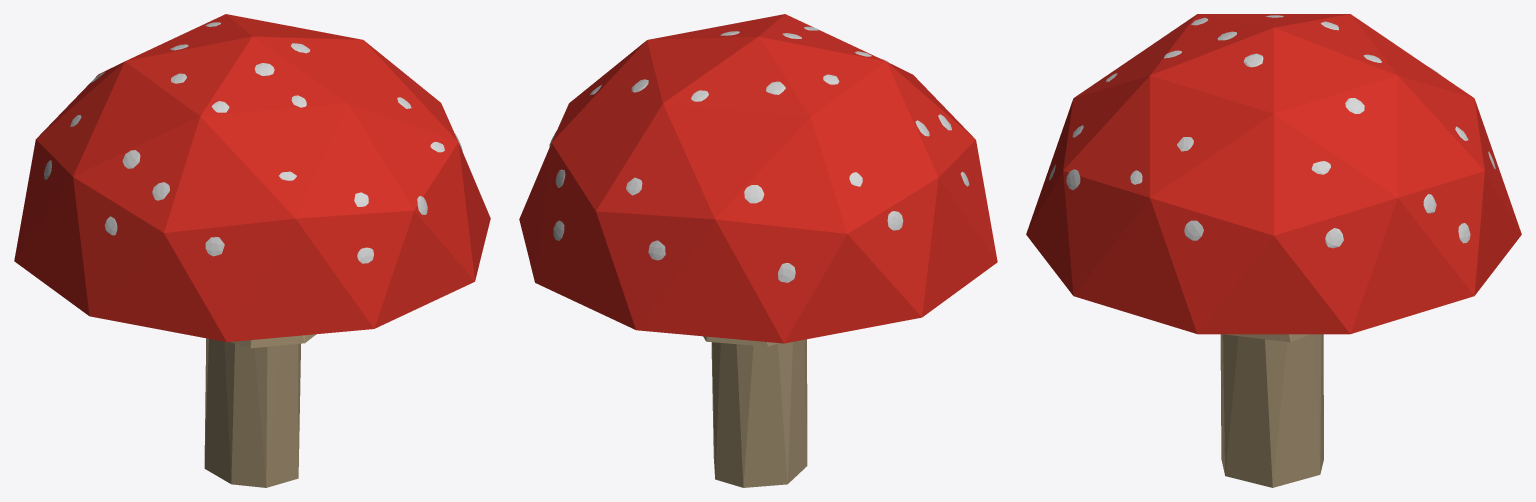
Rendered from vliegenzwam_2.fbx.
The picture shows the model from 3 angles, left to right: view 1: azimuth 30°, elevation 25°; view 2: azimuth 150°, elevation 25°; view 3: azimuth 270°, elevation 25°; orthographic projection.
Parts seen in each view (by area): view 1: Icosphere, Cylinder, Cylinder.001; view 2: Icosphere, Cylinder; view 3: Icosphere, Cylinder.
Boxes of the visible parts, bbox=[...] form: Icosphere: bbox=[14, 14, 490, 342]; Cylinder: bbox=[204, 338, 300, 487]; Cylinder.001: bbox=[230, 334, 315, 348]; Icosphere: bbox=[519, 14, 997, 343]; Cylinder: bbox=[711, 339, 807, 487]; Icosphere: bbox=[1026, 14, 1521, 334]; Cylinder: bbox=[1220, 334, 1323, 487].
Bounding box in the file's own units: 190 × 195 × 200.
